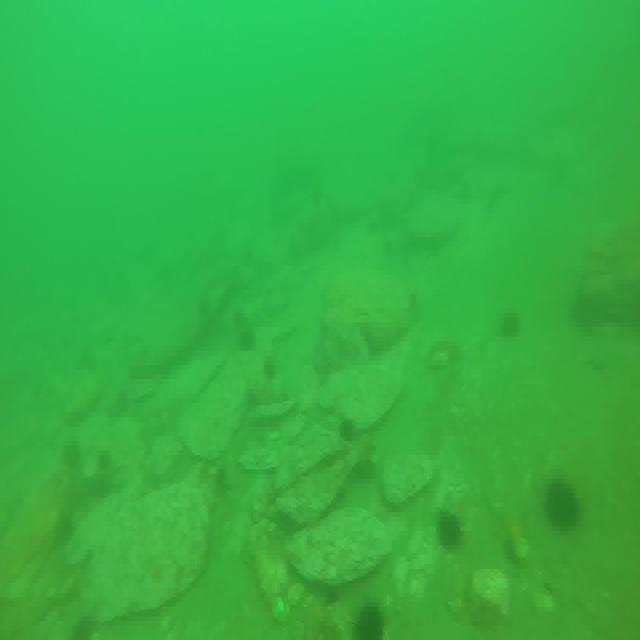echinus: (543, 480, 586, 532), (354, 601, 386, 640), (436, 509, 462, 551), (500, 310, 522, 339), (62, 439, 82, 468), (338, 417, 356, 442), (240, 330, 256, 350)
